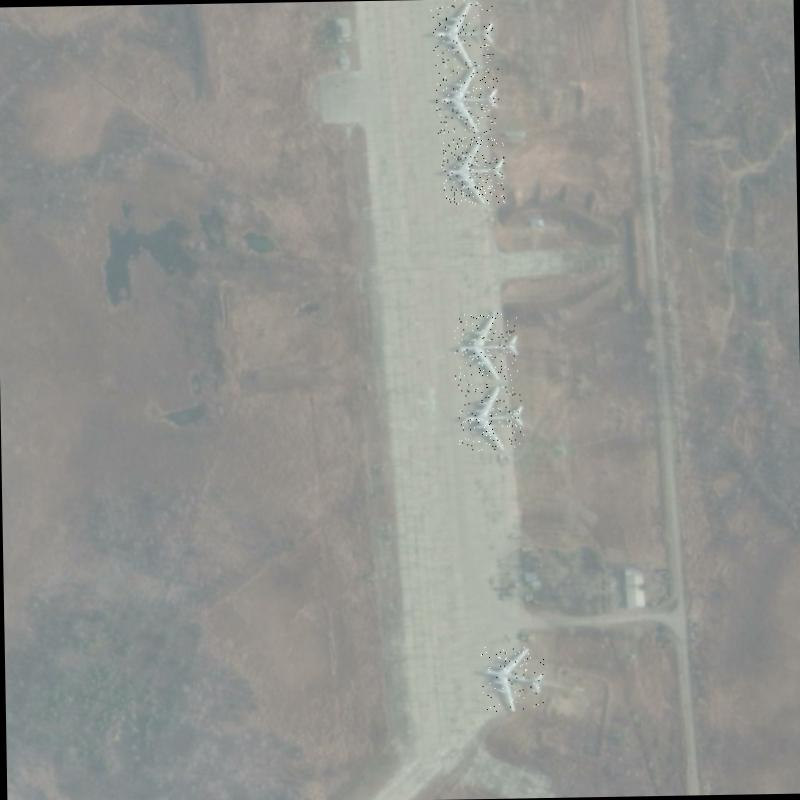A17: (458, 383, 524, 451), (435, 66, 500, 134), (454, 312, 518, 381), (440, 136, 504, 204), (428, 0, 493, 66), (480, 646, 544, 712)
